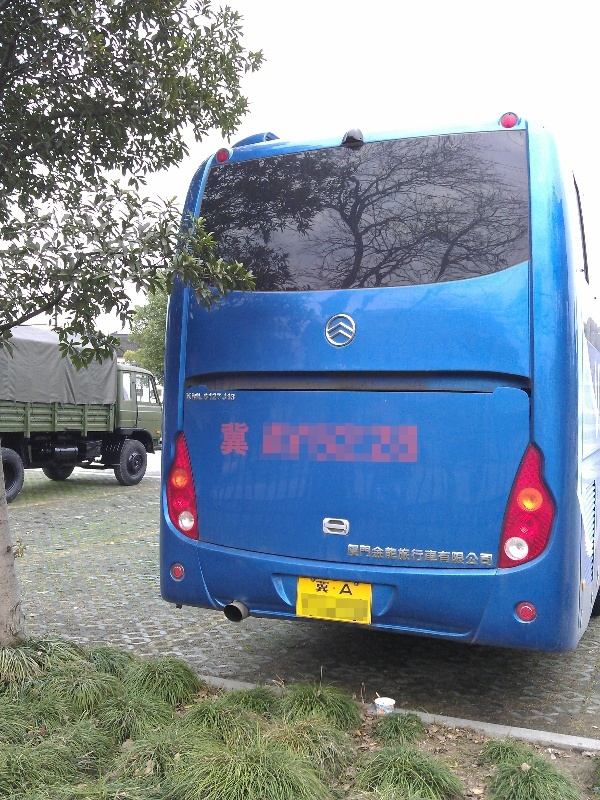text: (225, 421, 240, 457), (353, 543, 368, 568), (369, 543, 384, 568), (385, 543, 400, 568), (401, 543, 416, 568), (417, 543, 432, 568), (433, 543, 448, 568), (449, 543, 464, 568), (465, 543, 480, 568), (481, 543, 495, 568), (241, 421, 250, 457), (321, 580, 336, 596), (337, 580, 352, 596), (220, 421, 224, 457), (347, 543, 352, 568), (209, 393, 222, 401), (225, 393, 236, 401), (193, 393, 203, 401), (316, 580, 320, 596), (186, 393, 192, 401), (353, 580, 355, 596), (204, 393, 208, 401), (222, 393, 224, 401)
